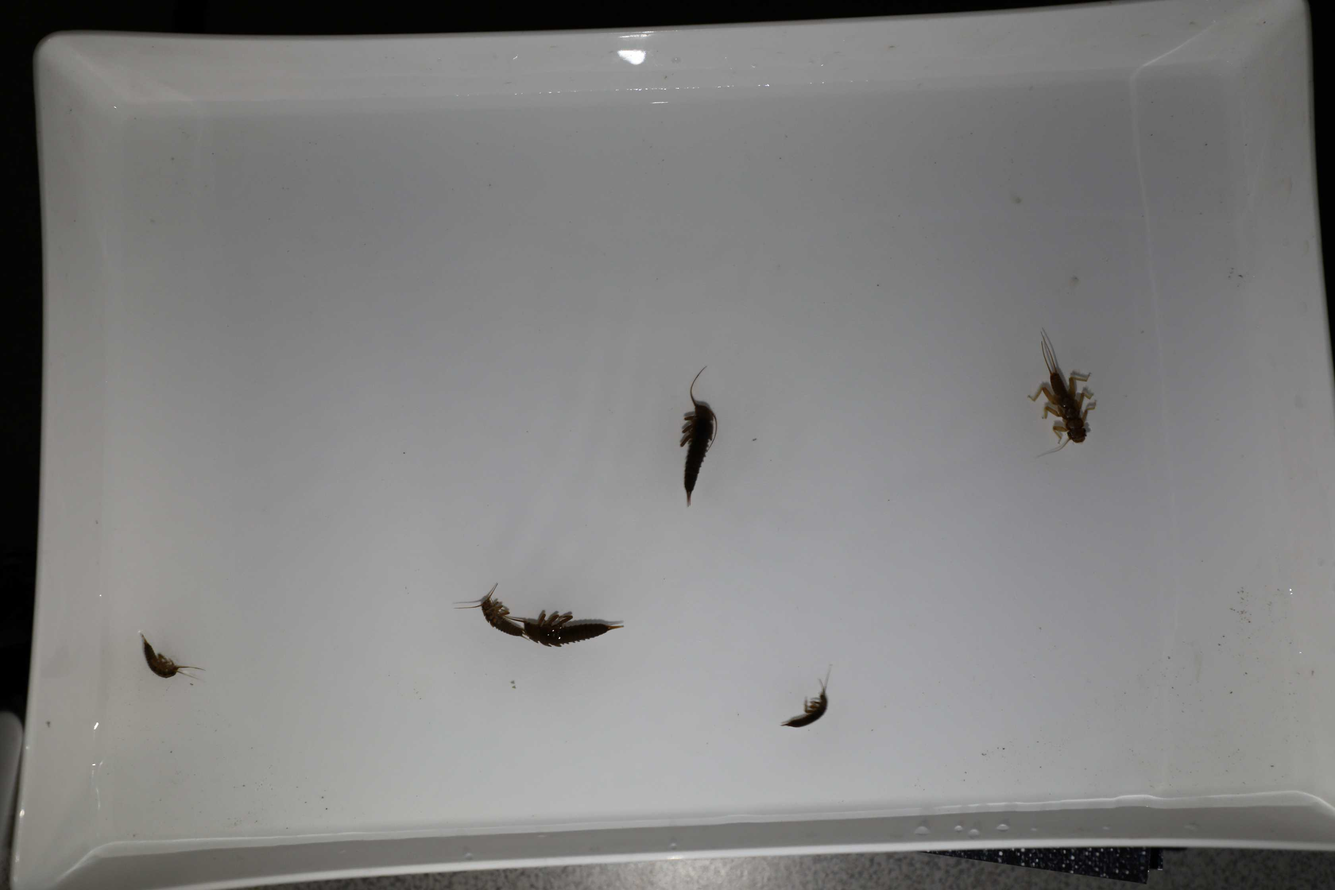Stonefly: (1024, 329, 1098, 452), (674, 365, 715, 520), (451, 580, 527, 644), (514, 611, 629, 646), (134, 631, 201, 690), (778, 664, 832, 731)
